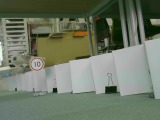speed_10: (28, 55, 47, 72)
